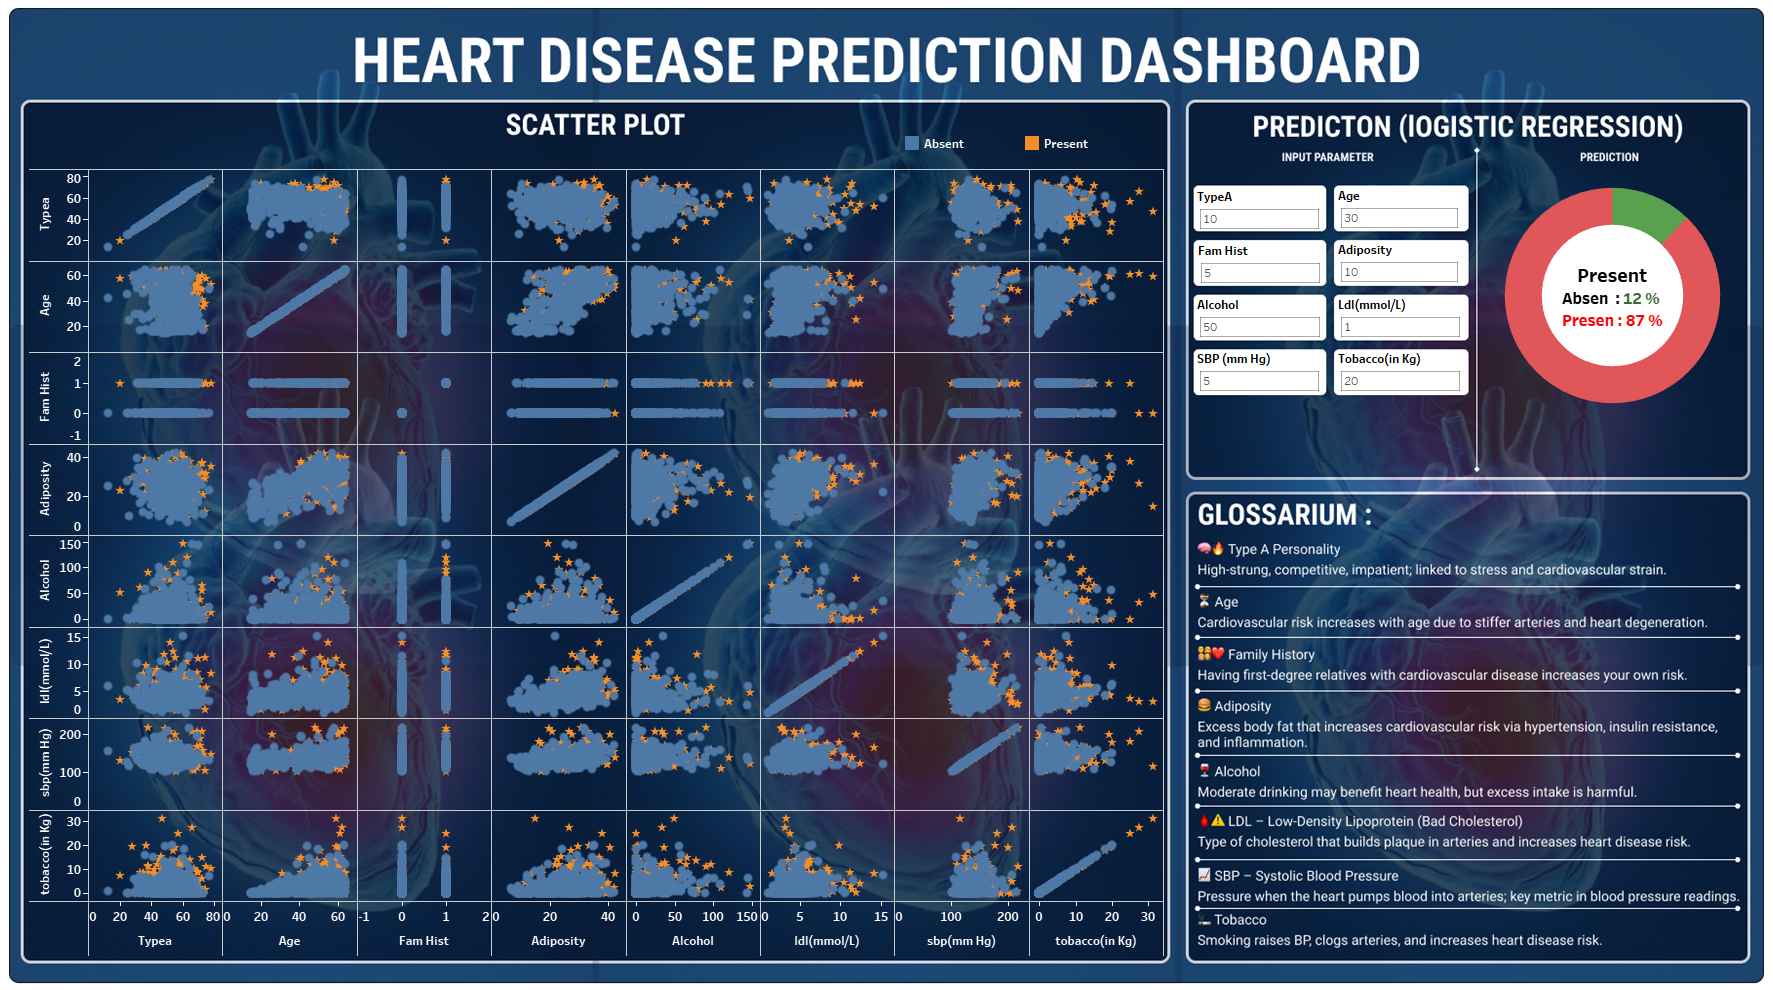

What the dashboard file says about the page in this screenshot:
{"tool":"tableau","page":{"name":"Heart Desease Prediction","canvas":[1800,1000],"ordinal":0},"visuals":[{"type":"image","param":"Image/Untitled (2).jpg","box":[8,8,1784,984]},{"type":"legend","title":"scatter plot","param":"[federated.12ecfz11tbjbce1010qko08yfzcq].[none:CHD:nk]","box":[915,137,261,23]},{"type":"worksheet","title":"scatter plot","mark":"Automatic","rows":["typea","age","FamHist","adiposity","alcohol","ldl(mmol/L)","sbp(mm Hg)","tobacco(in Kg)"],"cols":["typea","age","FamHist","adiposity","alcohol","ldl(mmol/L)","sbp(mm Hg)","tobacco(in Kg)"],"box":[42,173,1135,788]},{"type":"worksheet","title":"LR Pred","mark":"Pie","rows":["Calculation_16044111612743690","Calculation_16044111613108236"],"box":[1493,190,265,219]},{"type":"parameter","param":"[Parameters].[Adiposity (copy)_792070622292500480]","box":[1351,191,123,44]},{"type":"parameter","param":"[Parameters].[Tobacco (copy)_792070622293098501]","box":[1210,192,125,41]},{"type":"parameter","param":"[Parameters].[Parameter 1]","box":[1351,245,123,44]},{"type":"parameter","param":"[Parameters].[Adiposity (copy)_792070622390120465]","box":[1211,246,125,44]},{"type":"parameter","param":"[Parameters].[Age (copy)_792070622292815873]","box":[1210,300,126,44]},{"type":"parameter","param":"[Parameters].[Alcohol (copy)_792070622292897794]","box":[1351,300,125,44]},{"type":"parameter","param":"[Parameters].[Ldlpc (copy)_792070622292971523]","box":[1210,354,125,44]},{"type":"parameter","param":"[Parameters].[SBP (copy)_792070622293057540]","box":[1351,354,125,44]}]}

Visuals, with their boxes in screenshot pixels (x1, y1, x2, y2), scaled from the page's 1800x1000 canvas onto the 1773x990 screenshot:
image: BBox(8, 8, 1765, 982)
"scatter plot" legend: BBox(901, 136, 1158, 158)
"scatter plot" worksheet: BBox(41, 171, 1159, 951)
"LR Pred" worksheet (Pie marks): BBox(1471, 188, 1732, 405)
parameter: BBox(1331, 189, 1452, 233)
parameter: BBox(1192, 190, 1315, 231)
parameter: BBox(1331, 243, 1452, 286)
parameter: BBox(1193, 244, 1316, 287)
parameter: BBox(1192, 297, 1316, 341)
parameter: BBox(1331, 297, 1454, 341)
parameter: BBox(1192, 350, 1315, 394)
parameter: BBox(1331, 350, 1454, 394)
